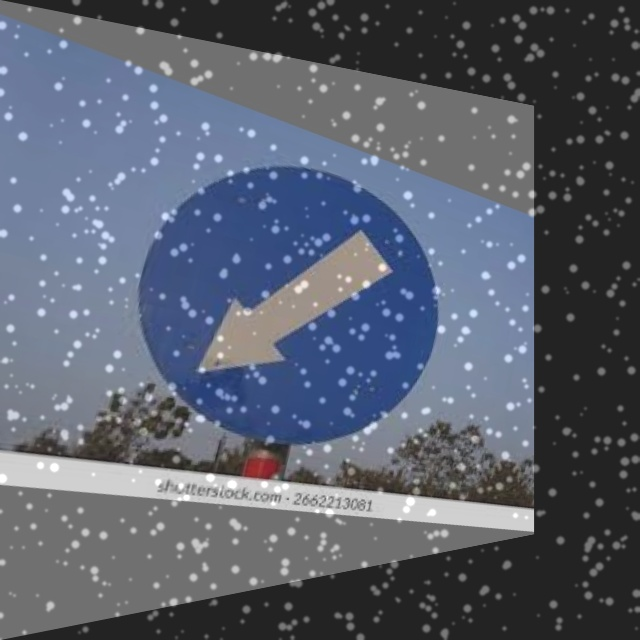Compulsory_Keep_Left: (108, 115, 453, 480)
